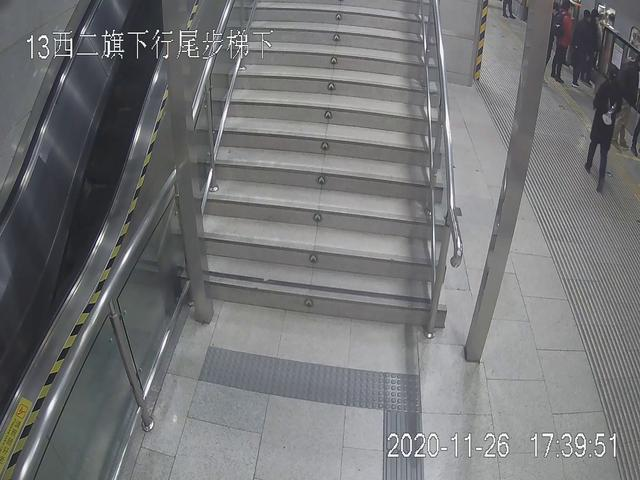person: (582, 60, 620, 189), (551, 1, 574, 84)
